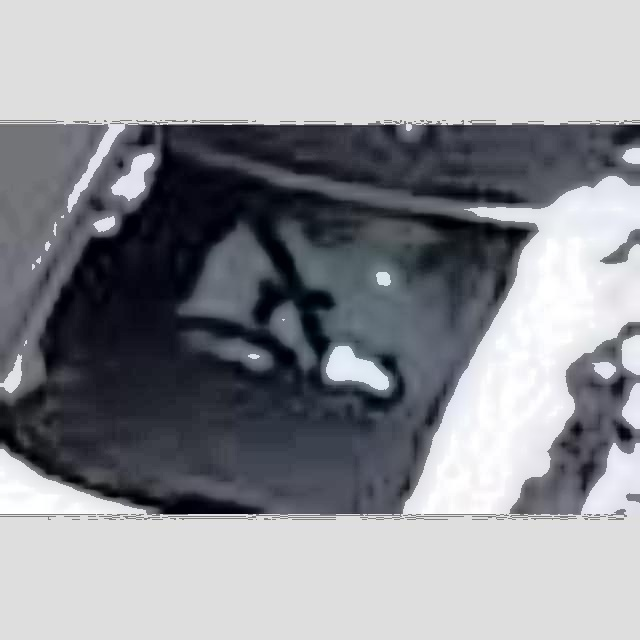pakai: (213, 176, 434, 412)
